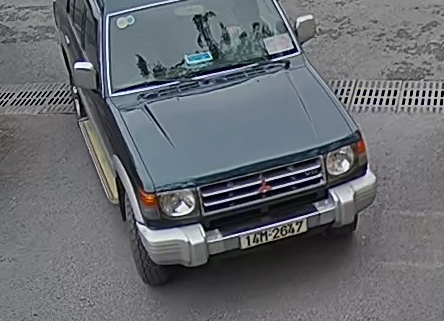vehicle plate: (231, 217, 313, 253)
